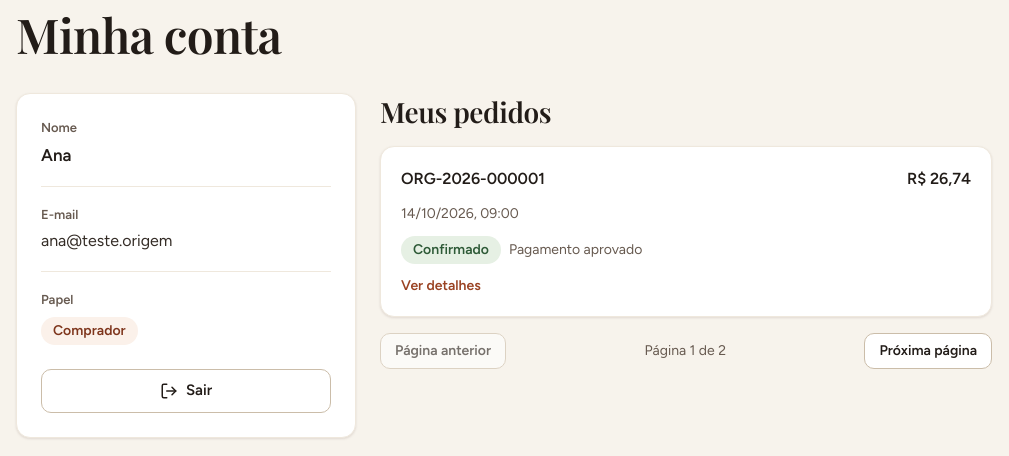
pagina os pedidos sem solicitar o detalhe de cada linha
Check: the button "Página anterior" is disabled, box [380,333,506,369]
Click the button "Próxima página" at (928, 351), box [864,333,992,369]
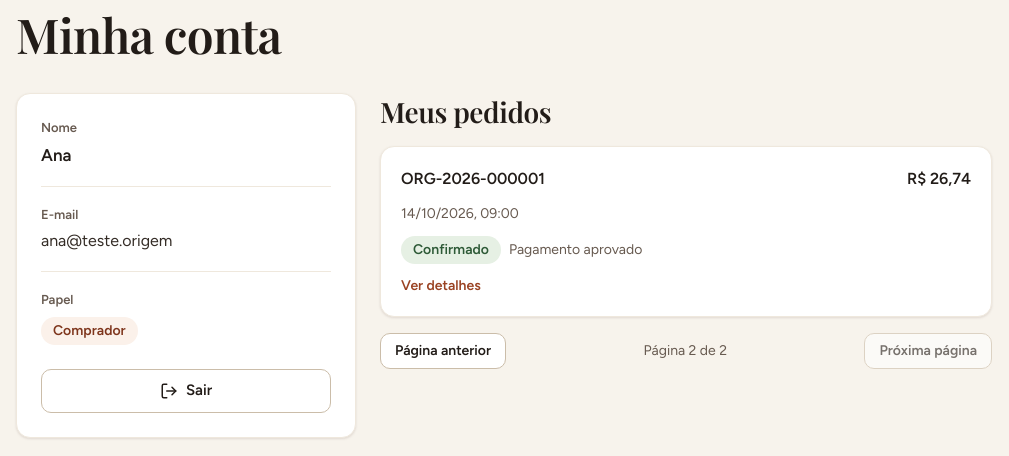
Check: the text "Página 2 de 2" is shown, box [644,341,727,361]
